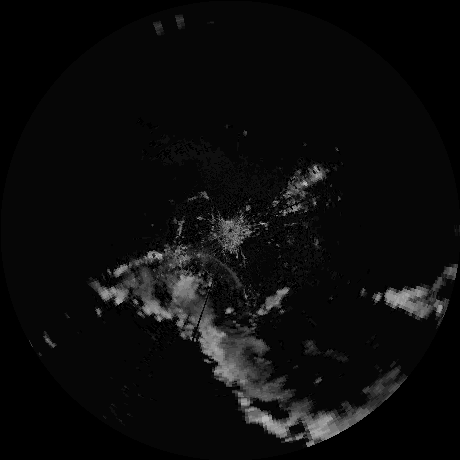frontgust: (194, 252, 248, 299)
